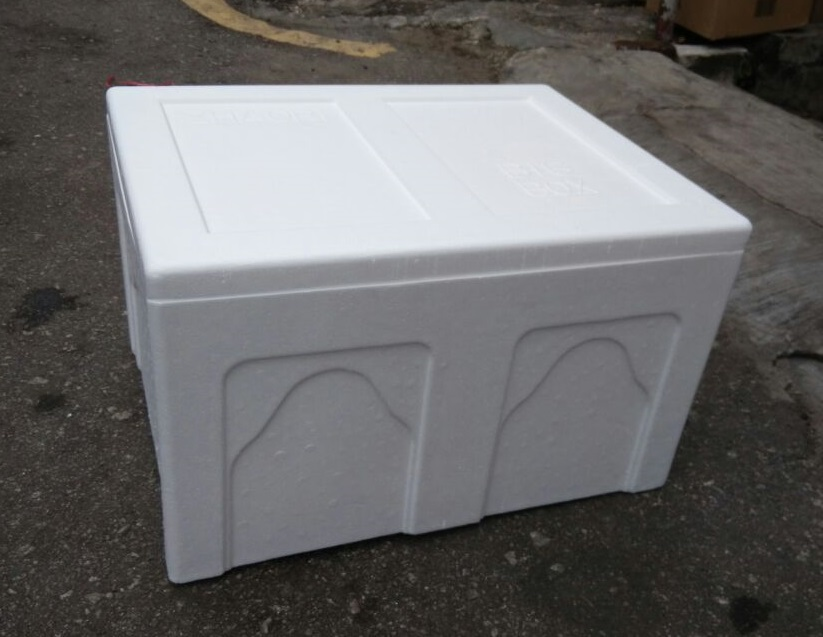Foam Box: (99, 75, 757, 587)
